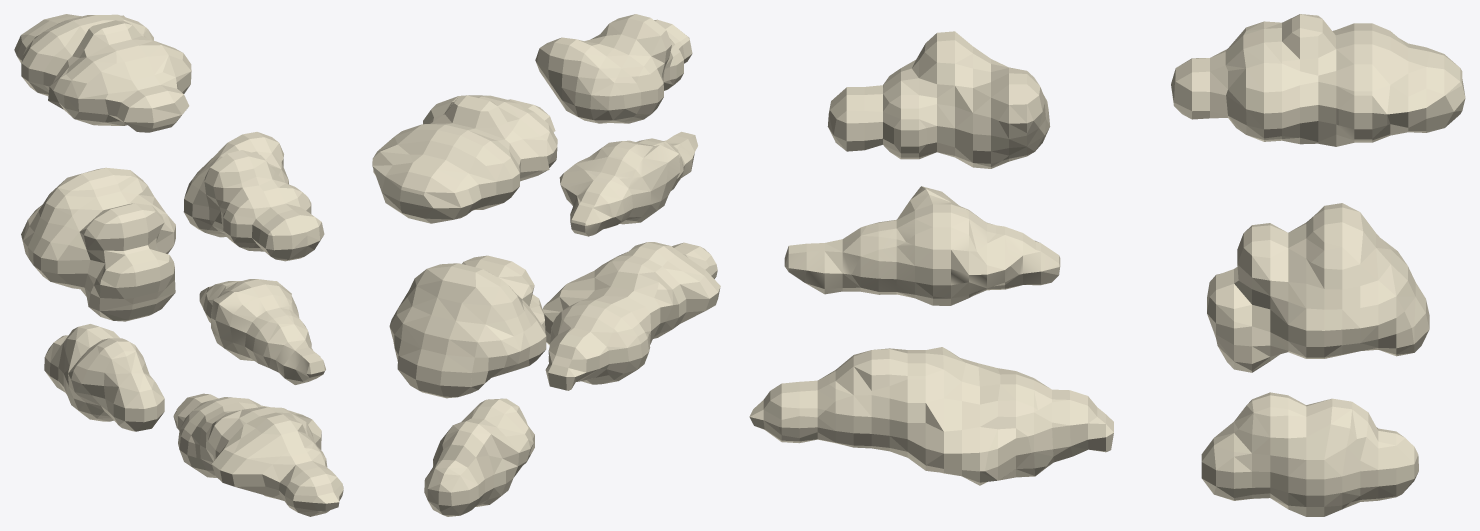
Rendered from Clouds.fbx.
3 renders of one model, left to right at view 1: azimuth 30°, elevation 25°; view 2: azimuth 150°, elevation 25°; view 3: azimuth 270°, elevation 25°, orthographic. The views are drawn at different scales.
Visible parts, largest first — view 1: Cloud_5, Cloud_4, Cloud_3, Cloud_1, Cloud_6, Cloud_2; view 2: Cloud_3, Cloud_4, Cloud_5, Cloud_1, Cloud_2, Cloud_6; view 3: Cloud_3, Cloud_4, Cloud_5, Cloud_1, Cloud_6, Cloud_2.
Part boxes in pixels (<box>): Cloud_5: <box>21,167,175,321</box>; Cloud_4: <box>14,14,191,132</box>; Cloud_3: <box>173,393,343,516</box>; Cloud_1: <box>183,132,324,261</box>; Cloud_6: <box>44,324,164,431</box>; Cloud_2: <box>199,279,325,384</box>; Cloud_3: <box>542,242,720,390</box>; Cloud_4: <box>372,95,557,223</box>; Cloud_5: <box>389,255,546,398</box>; Cloud_1: <box>535,14,692,123</box>; Cloud_2: <box>559,131,697,236</box>; Cloud_6: <box>424,398,534,516</box>; Cloud_3: <box>749,347,1113,485</box>; Cloud_4: <box>1171,14,1465,146</box>; Cloud_5: <box>1207,203,1429,372</box>; Cloud_1: <box>827,31,1050,168</box>; Cloud_6: <box>1201,392,1418,516</box>; Cloud_2: <box>784,186,1060,305</box>.
Bounding box in the file's own units: 440 × 1204 × 1588.
